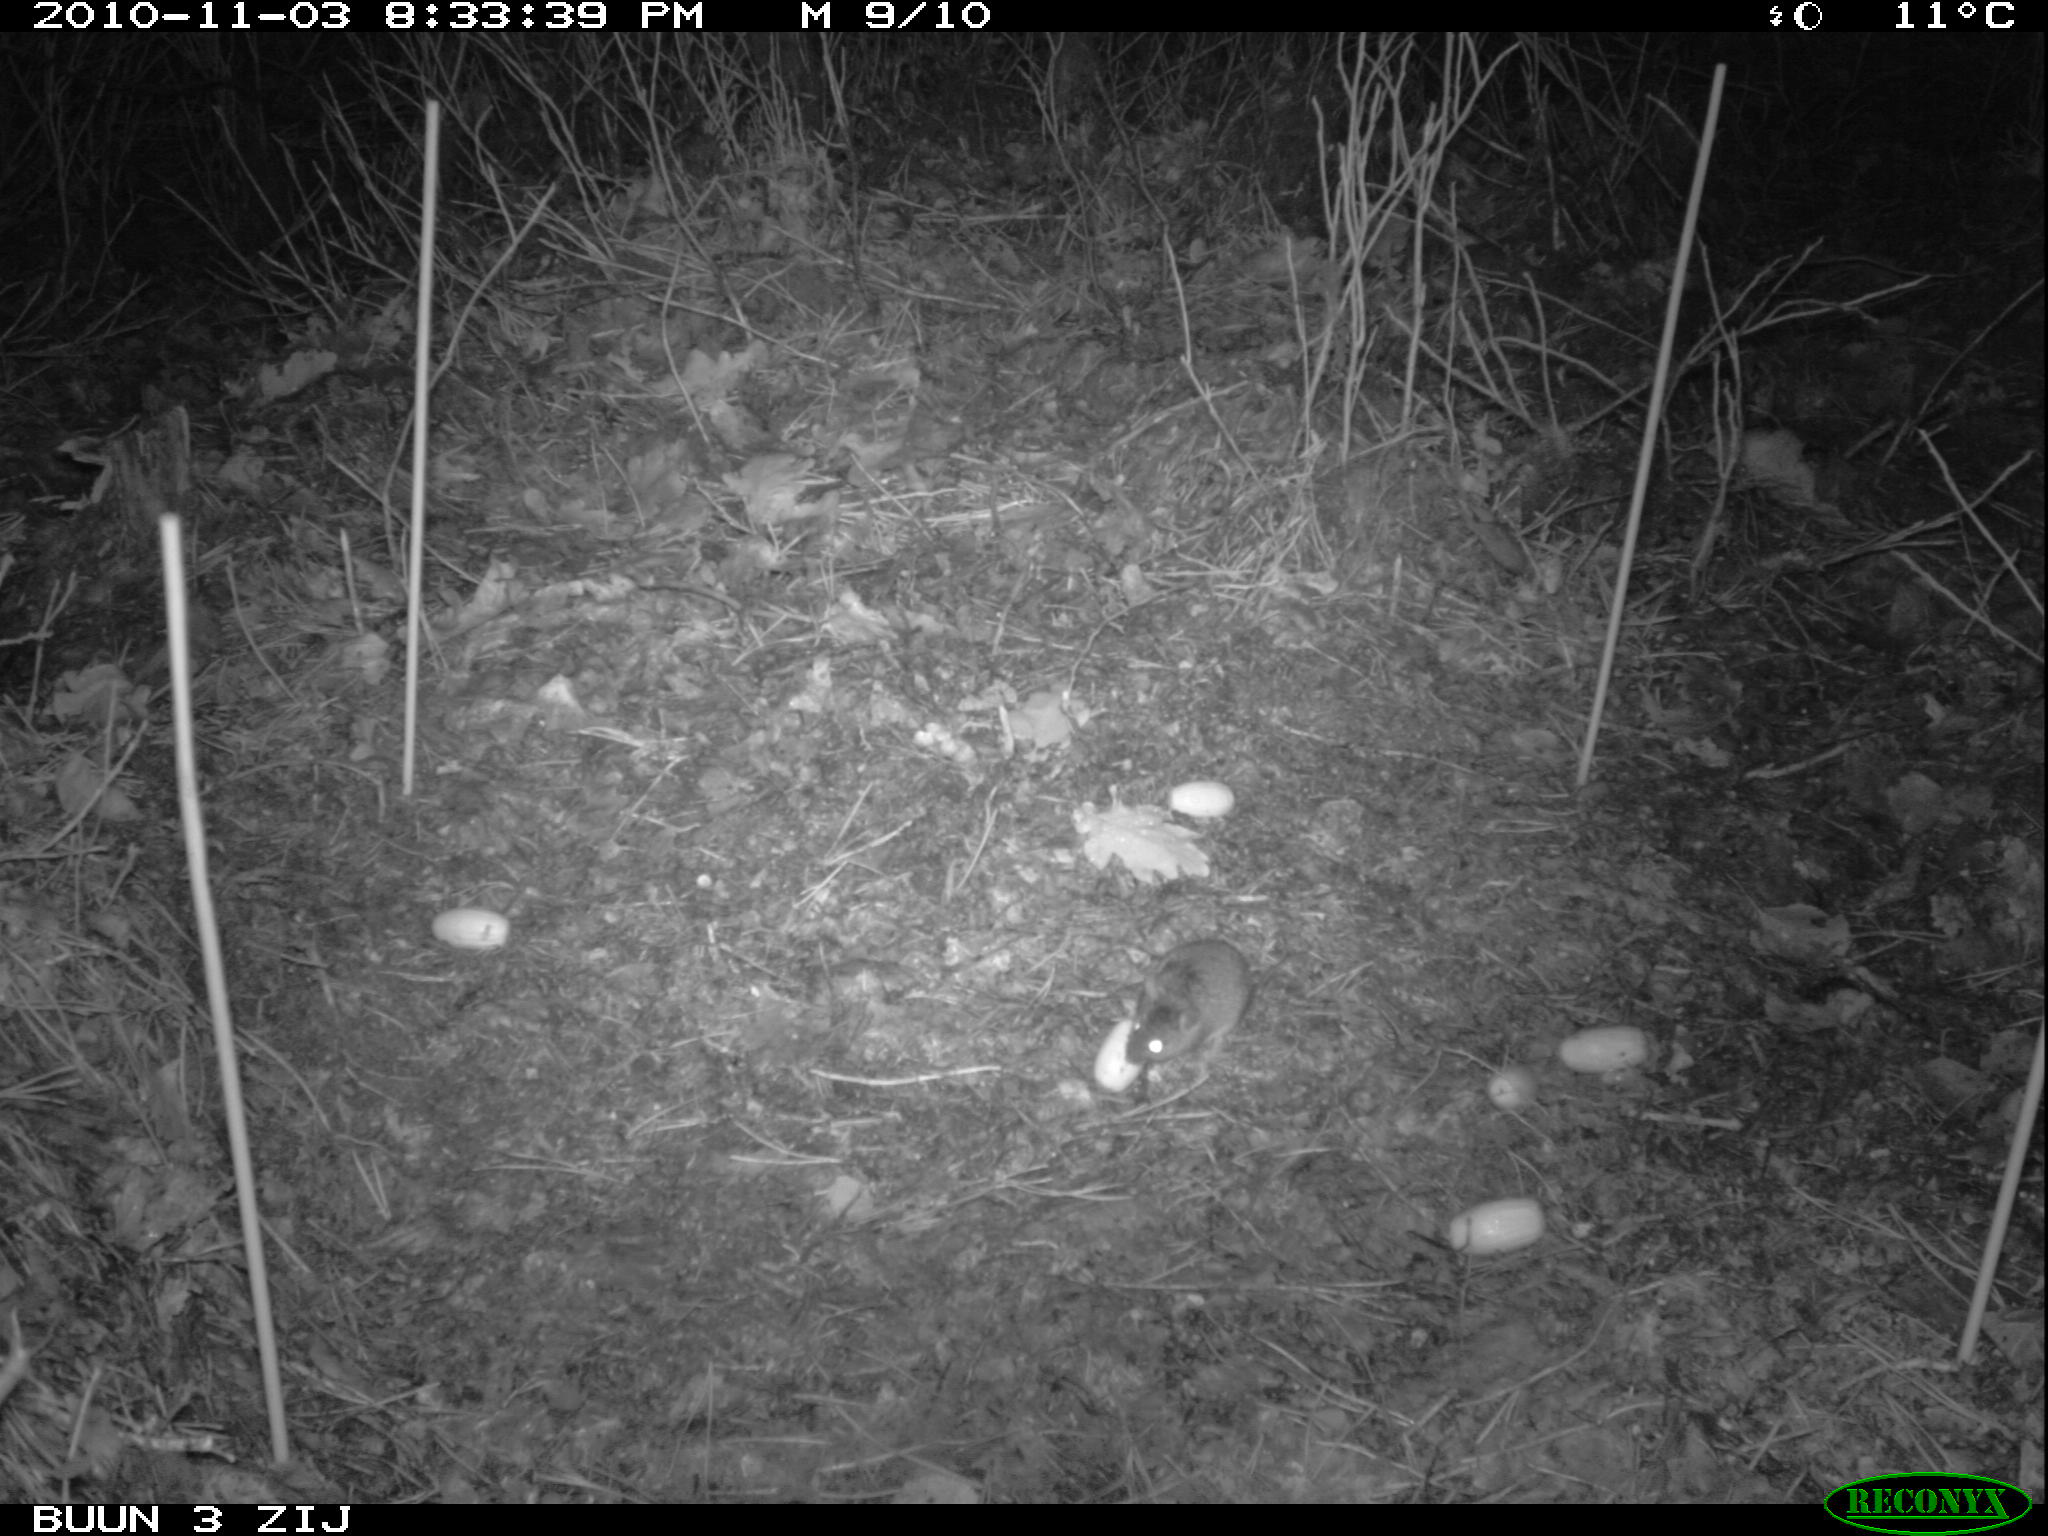Rodent: (1122, 923, 1256, 1071)
